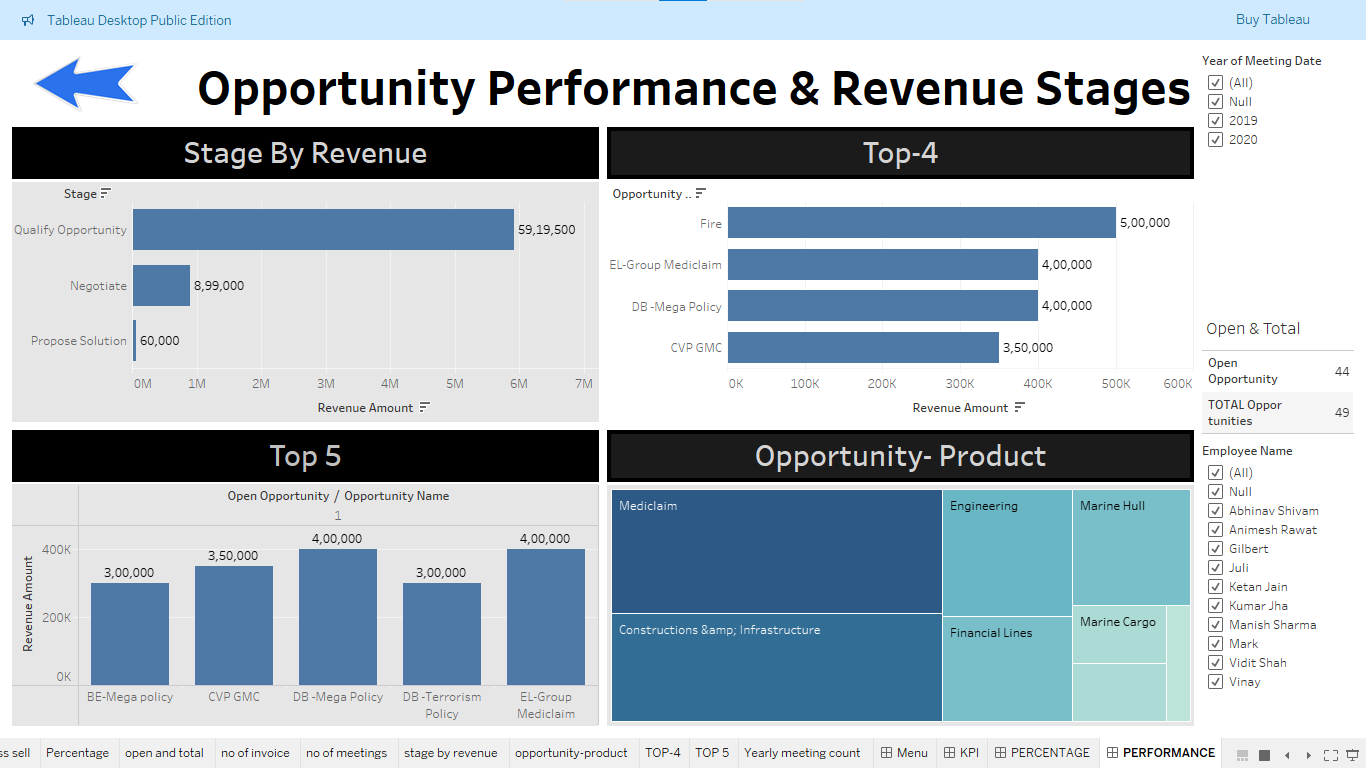

What the dashboard file says about the page in this screenshot:
{"tool":"tableau","page":{"name":"PERFORMANCE","canvas":[1000,1000],"units":"permille","ordinal":3},"visuals":[{"type":"text","box":[5.6,11.7,876.8,106.7]},{"type":"filter","title":"TOP-4","param":"[federated.17459vs06t331b183lagk08j5kt5].[yr:Meeting Date:ok]","box":[882.4,11.7,112,372.8]},{"type":"dashboard-object","box":[4.9,20.5,114.8,83.3]},{"type":"worksheet","title":"stage by revenue","mark":"Automatic","rows":["stage"],"cols":["revenue_amount"],"box":[5.6,118.4,438.1,434.9]},{"type":"worksheet","title":"TOP-4","mark":"Automatic","rows":["opportunity_name"],"cols":["revenue_amount"],"box":[443.7,118.4,438.8,434.9]},{"type":"worksheet","title":"open and total","mark":"Automatic","box":[882.4,384.5,112,185.7]},{"type":"worksheet","title":"TOP 5","mark":"Automatic","rows":["revenue_amount"],"cols":["open opportunity","opportunity_name"],"box":[5.6,553.4,438.1,434.9]},{"type":"worksheet","title":"opportunity-product","mark":"Automatic","box":[443.7,553.4,438.8,434.9]},{"type":"filter","title":"TOP-4","param":"[federated.17459vs06t331b183lagk08j5kt5].[none:Employee Name:nk]","box":[882.4,570.2,112,418.1]}]}

Visuals, with their boxes on the dashboard's canvas, which has no fixed pixel size, in thousandths of its width and height (x1, y1, x2, y2). These are canvas units, not pixel positions in the 1366x768 screenshot, which may show the page scaled, cropped or inside an application window:
text: {"x1": 6, "y1": 12, "x2": 882, "y2": 118}
"TOP-4" filter: {"x1": 882, "y1": 12, "x2": 994, "y2": 384}
dashboard-object: {"x1": 5, "y1": 20, "x2": 120, "y2": 104}
"stage by revenue" worksheet: {"x1": 6, "y1": 118, "x2": 444, "y2": 553}
"TOP-4" worksheet: {"x1": 444, "y1": 118, "x2": 882, "y2": 553}
"open and total" worksheet: {"x1": 882, "y1": 384, "x2": 994, "y2": 570}
"TOP 5" worksheet: {"x1": 6, "y1": 553, "x2": 444, "y2": 988}
"opportunity-product" worksheet: {"x1": 444, "y1": 553, "x2": 882, "y2": 988}
"TOP-4" filter: {"x1": 882, "y1": 570, "x2": 994, "y2": 988}
